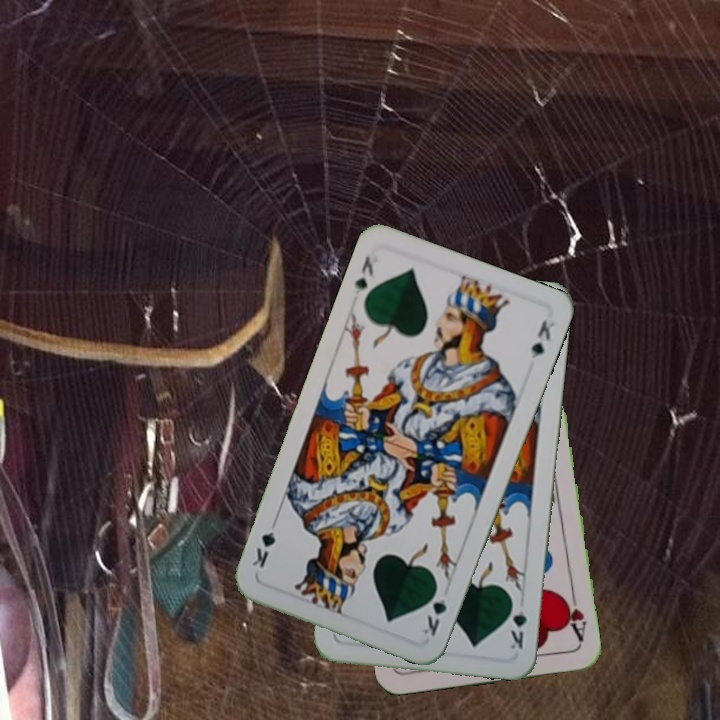GK: (416, 581, 450, 638), (506, 594, 530, 652), (350, 252, 376, 298)
HA: (559, 587, 589, 644)
